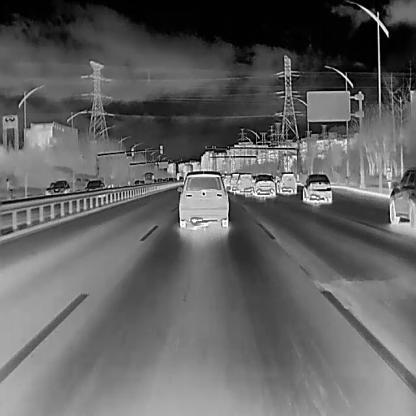car: (176, 169, 230, 227), (388, 166, 416, 228), (301, 173, 332, 203), (252, 173, 276, 197), (235, 173, 255, 194), (278, 172, 297, 194), (49, 180, 71, 195), (83, 179, 105, 193), (228, 172, 241, 190), (142, 172, 154, 185), (223, 175, 231, 185), (133, 179, 140, 185), (157, 178, 162, 184), (168, 176, 173, 182), (139, 179, 144, 184), (162, 177, 166, 183), (153, 178, 156, 182)
